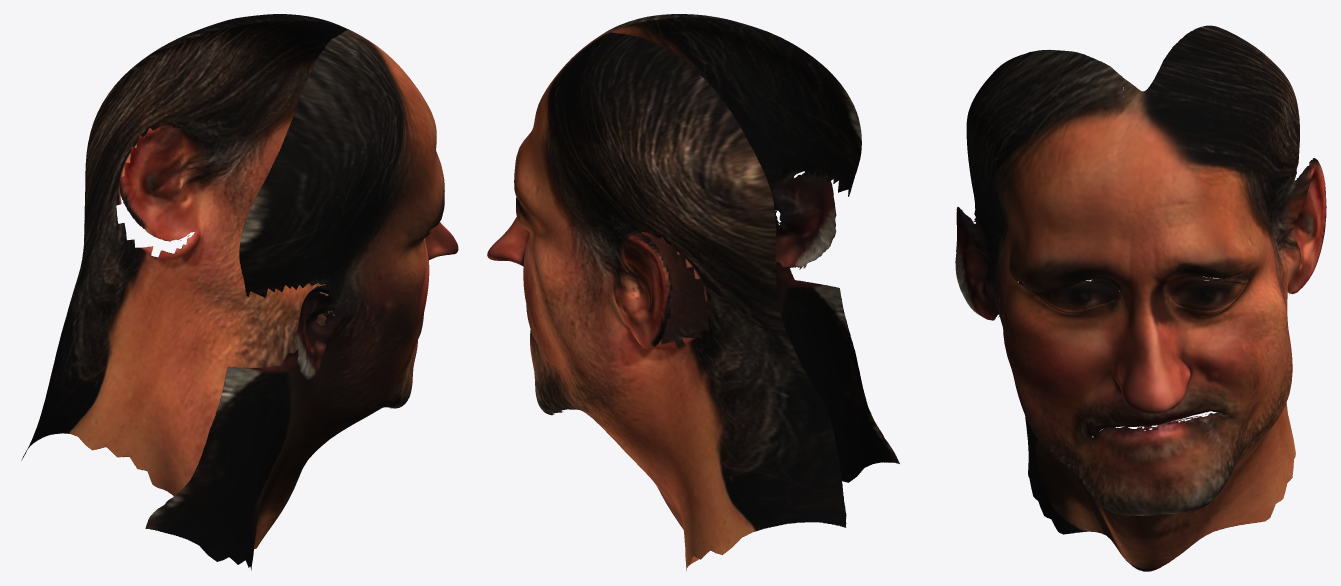
Rendered from 3D xavier face.fbx.
3 views of the same model, side by side, from view 1: azimuth 30°, elevation 25°; view 2: azimuth 150°, elevation 25°; view 3: azimuth 270°, elevation 25° (orthographic). The views are drawn at different scales.
Parts seen in each view (by area): view 1: FaceBuilderHead; view 2: FaceBuilderHead; view 3: FaceBuilderHead.
Part boxes in pixels (x1,y1,x2,y2): FaceBuilderHead: [21, 14, 458, 570]; FaceBuilderHead: [487, 14, 899, 570]; FaceBuilderHead: [955, 25, 1326, 571].
Bounding box in the file's own units: 177 × 208 × 128.
Materials: 1 (1 with a texture image).
